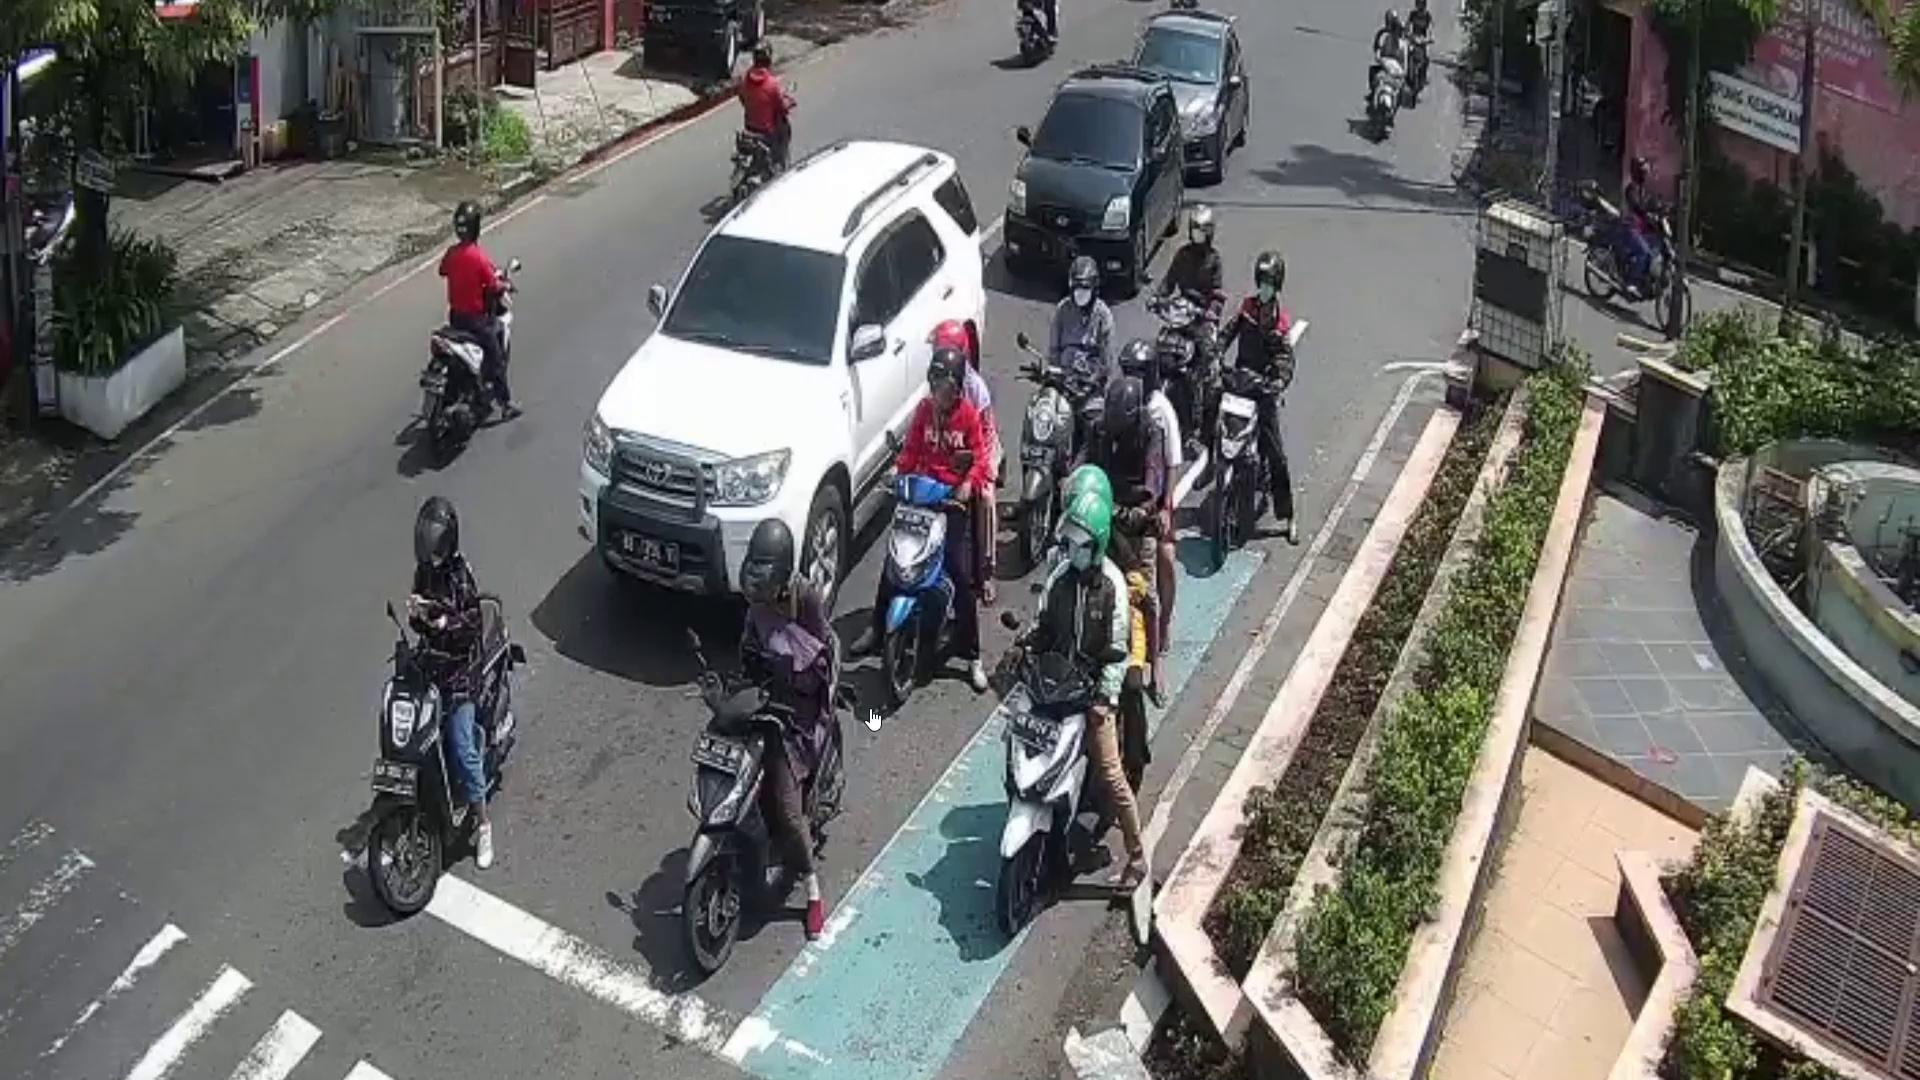car: (578, 135, 982, 632), (1002, 67, 1184, 298), (1124, 8, 1250, 181)
motorbike: (682, 633, 840, 975), (382, 589, 521, 914), (1002, 651, 1097, 932), (422, 266, 517, 455), (886, 473, 955, 703), (1584, 189, 1693, 322), (1212, 360, 1276, 564), (1015, 365, 1072, 564)
